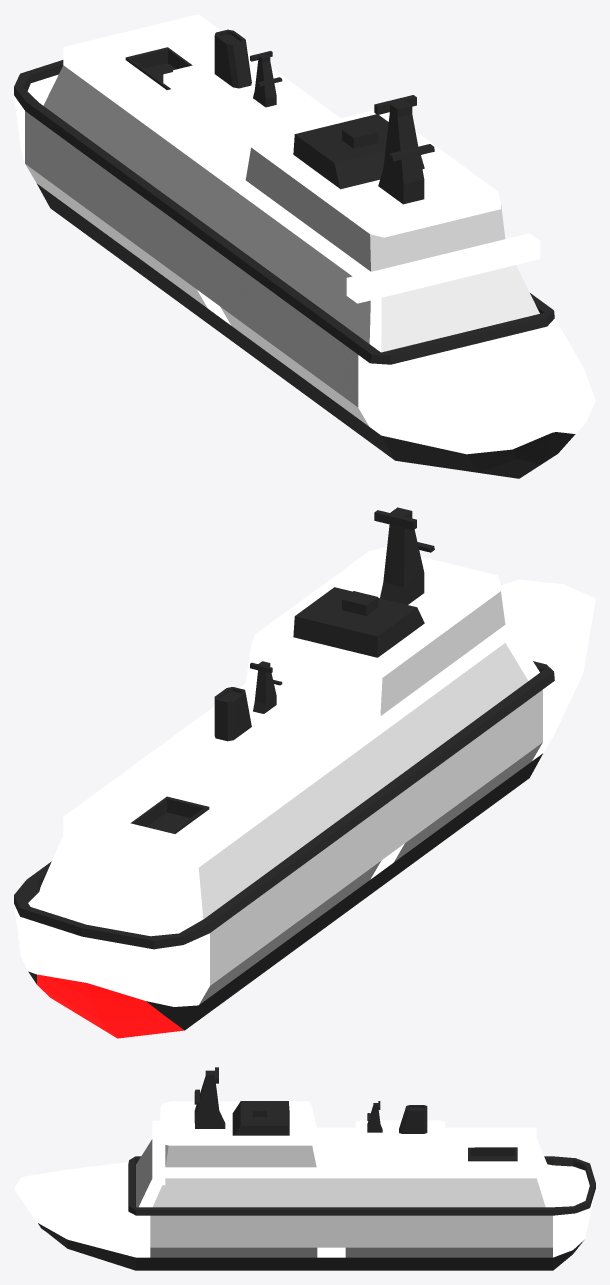
The model's file is Ship_CruiseShip.glb.
The picture shows the model from 3 angles, top to bottom: view 1: azimuth 30°, elevation 25°; view 2: azimuth 150°, elevation 25°; view 3: azimuth 270°, elevation 25°; orthographic projection. The views are drawn at different scales.
Parts seen in each view (by area): view 1: CruiseShip; view 2: CruiseShip; view 3: CruiseShip.
Boxes of the visible parts, x1,y1,x2,y2 form: CruiseShip: (14,14,595,478); CruiseShip: (14,507,595,1038); CruiseShip: (14,1067,595,1270).
Bounding box in the file's own units: 400 × 660 × 1805.
